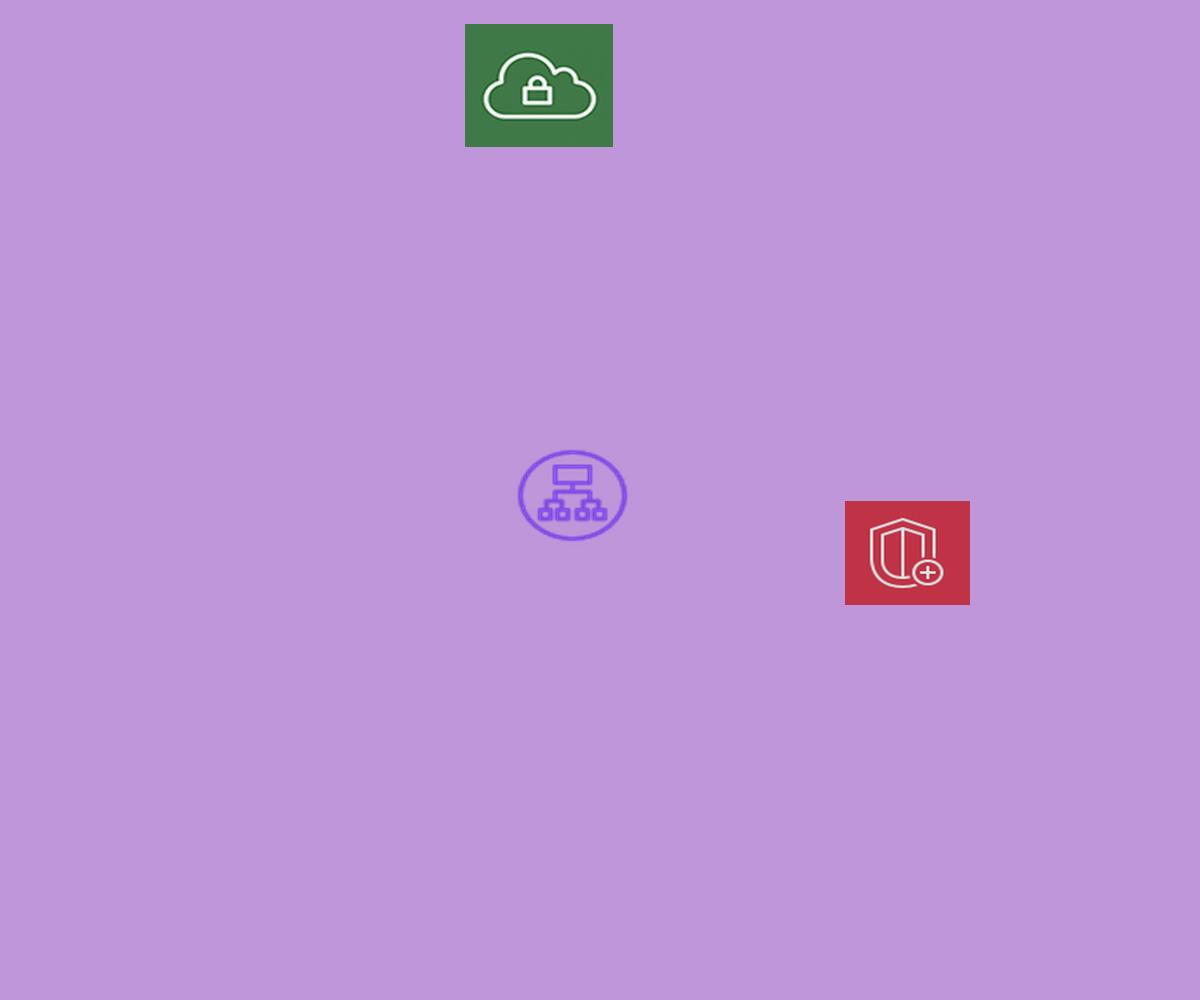AWS-Private_vpc: (465, 24, 613, 147)
AWS-Res_Elastic-Load-Balancing_Application-Load-Balancer: (513, 446, 632, 545)
AWS-Shield: (845, 501, 970, 605)
